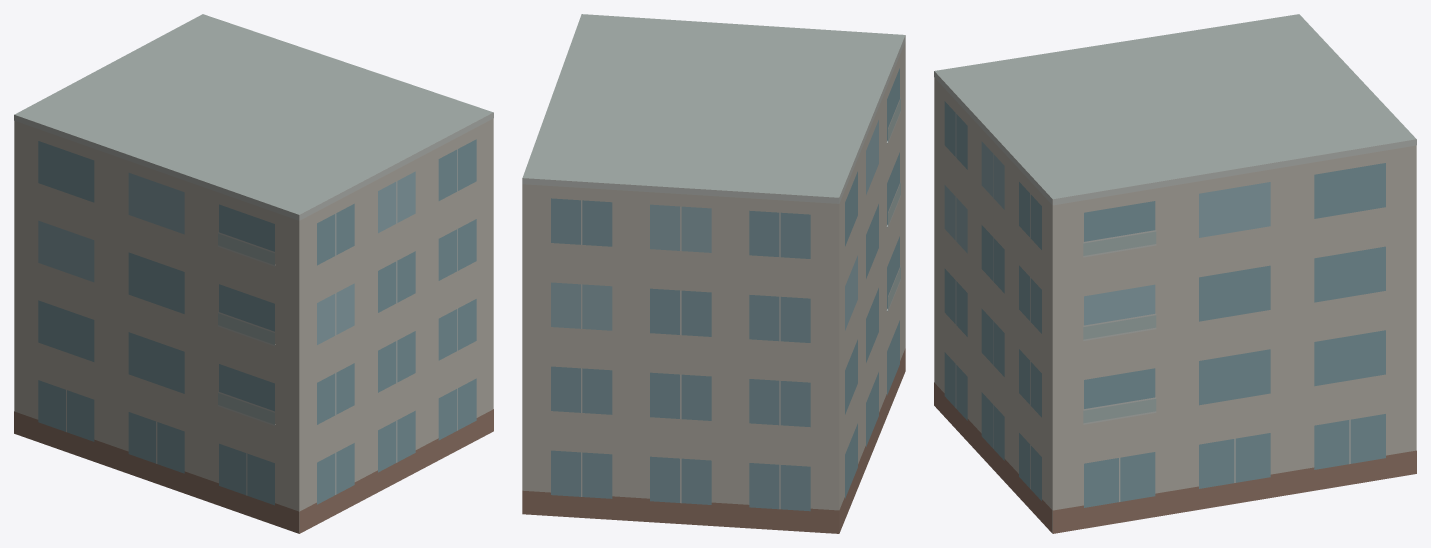
The model's file is survey-upis-32809265.glb.
3 renders of one model, left to right at view 1: azimuth 30°, elevation 25°; view 2: azimuth 150°, elevation 25°; view 3: azimuth 270°, elevation 25°, orthographic. The views are drawn at different scales.
Visible parts, largest first — view 1: survey-upis-32809265.tmp; view 2: survey-upis-32809265.tmp; view 3: survey-upis-32809265.tmp.
Boxes of the visible parts, x1=… form: survey-upis-32809265.tmp: x1=14, y1=14, x2=493, y2=533; survey-upis-32809265.tmp: x1=522, y1=14, x2=905, y2=533; survey-upis-32809265.tmp: x1=934, y1=14, x2=1416, y2=533.
Bounding box in the file's own units: 15.69 × 13.2 × 17.27.
